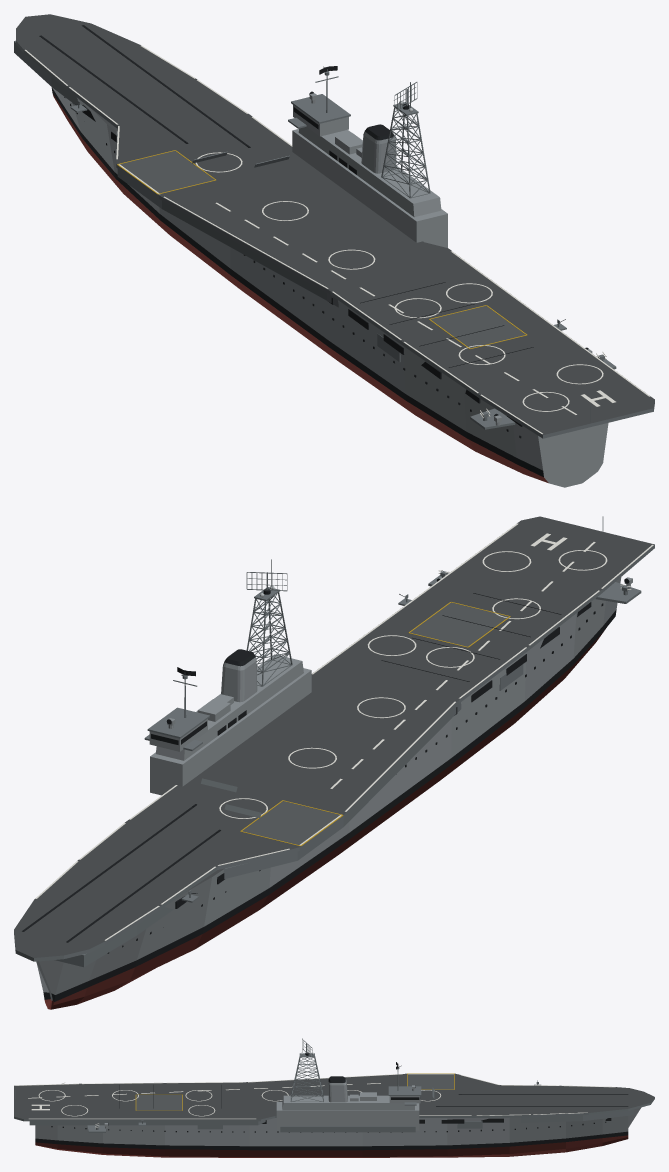
File: hermes.glb
3 views of the same model, one above another, from view 1: azimuth 30°, elevation 25°; view 2: azimuth 150°, elevation 25°; view 3: azimuth 270°, elevation 25° (orthographic). The views are drawn at different scales.
Visible parts, largest first — view 1: Flight deck, Hull, Island base, Deck markings, Island upper, 965 tower, Aft lift, Deck-edge lift, Angled deck sponson, Funnel, Bridge roof, Catapult tracks (+1 smaller); view 2: Flight deck, Hull, Island base, Deck markings, Island upper, Aft lift, 965 tower, Deck-edge lift, Angled deck sponson, Funnel, Bow support, Bridge roof (+2 smaller); view 3: Flight deck, Hull, Island base, Deck markings, Island upper, Starboard sponson, 965 tower, Island sponson, Aft lift, Bow support, Deck-edge lift, Funnel (+6 smaller).
Boxes of the visible parts, <box> form: Flight deck: <box>16,14,654,438</box>; Hull: <box>51,87,608,487</box>; Island base: <box>292,129,447,247</box>; Deck markings: <box>24,45,650,434</box>; Island upper: <box>298,127,441,217</box>; 965 tower: <box>381,82,430,198</box>; Aft lift: <box>431,306,525,348</box>; Deck-edge lift: <box>120,151,214,193</box>; Angled deck sponson: <box>116,131,338,307</box>; Funnel: <box>361,131,396,173</box>; Bridge roof: <box>291,94,350,123</box>; Catapult tracks: <box>39,25,250,147</box>; Flight deck: <box>14,516,654,961</box>; Hull: <box>36,577,621,1009</box>; Island base: <box>150,668,311,795</box>; Deck markings: <box>35,523,653,940</box>; Island upper: <box>156,654,303,760</box>; Aft lift: <box>410,602,508,646</box>; 965 tower: <box>246,559,292,686</box>; Deck-edge lift: <box>242,801,339,844</box>; Angled deck sponson: <box>223,702,461,878</box>; Funnel: <box>221,657,257,702</box>; Bow support: <box>54,907,173,967</box>; Bridge roof: <box>147,707,209,738</box>; Flight deck: <box>14,1073,654,1121</box>; Hull: <box>35,1107,641,1157</box>; Island base: <box>276,1102,419,1130</box>; Deck markings: <box>15,1073,615,1119</box>; Island upper: <box>282,1095,414,1110</box>; Starboard sponson: <box>29,1120,265,1125</box>; 965 tower: <box>290,1038,323,1101</box>; Island sponson: <box>280,1126,415,1132</box>; Aft lift: <box>136,1095,182,1110</box>; Bow support: <box>521,1109,633,1122</box>; Deck-edge lift: <box>408,1074,453,1089</box>; Funnel: <box>328,1079,347,1102</box>.
Bounding box in the file's own units: 43.23 × 52.5 × 227.
